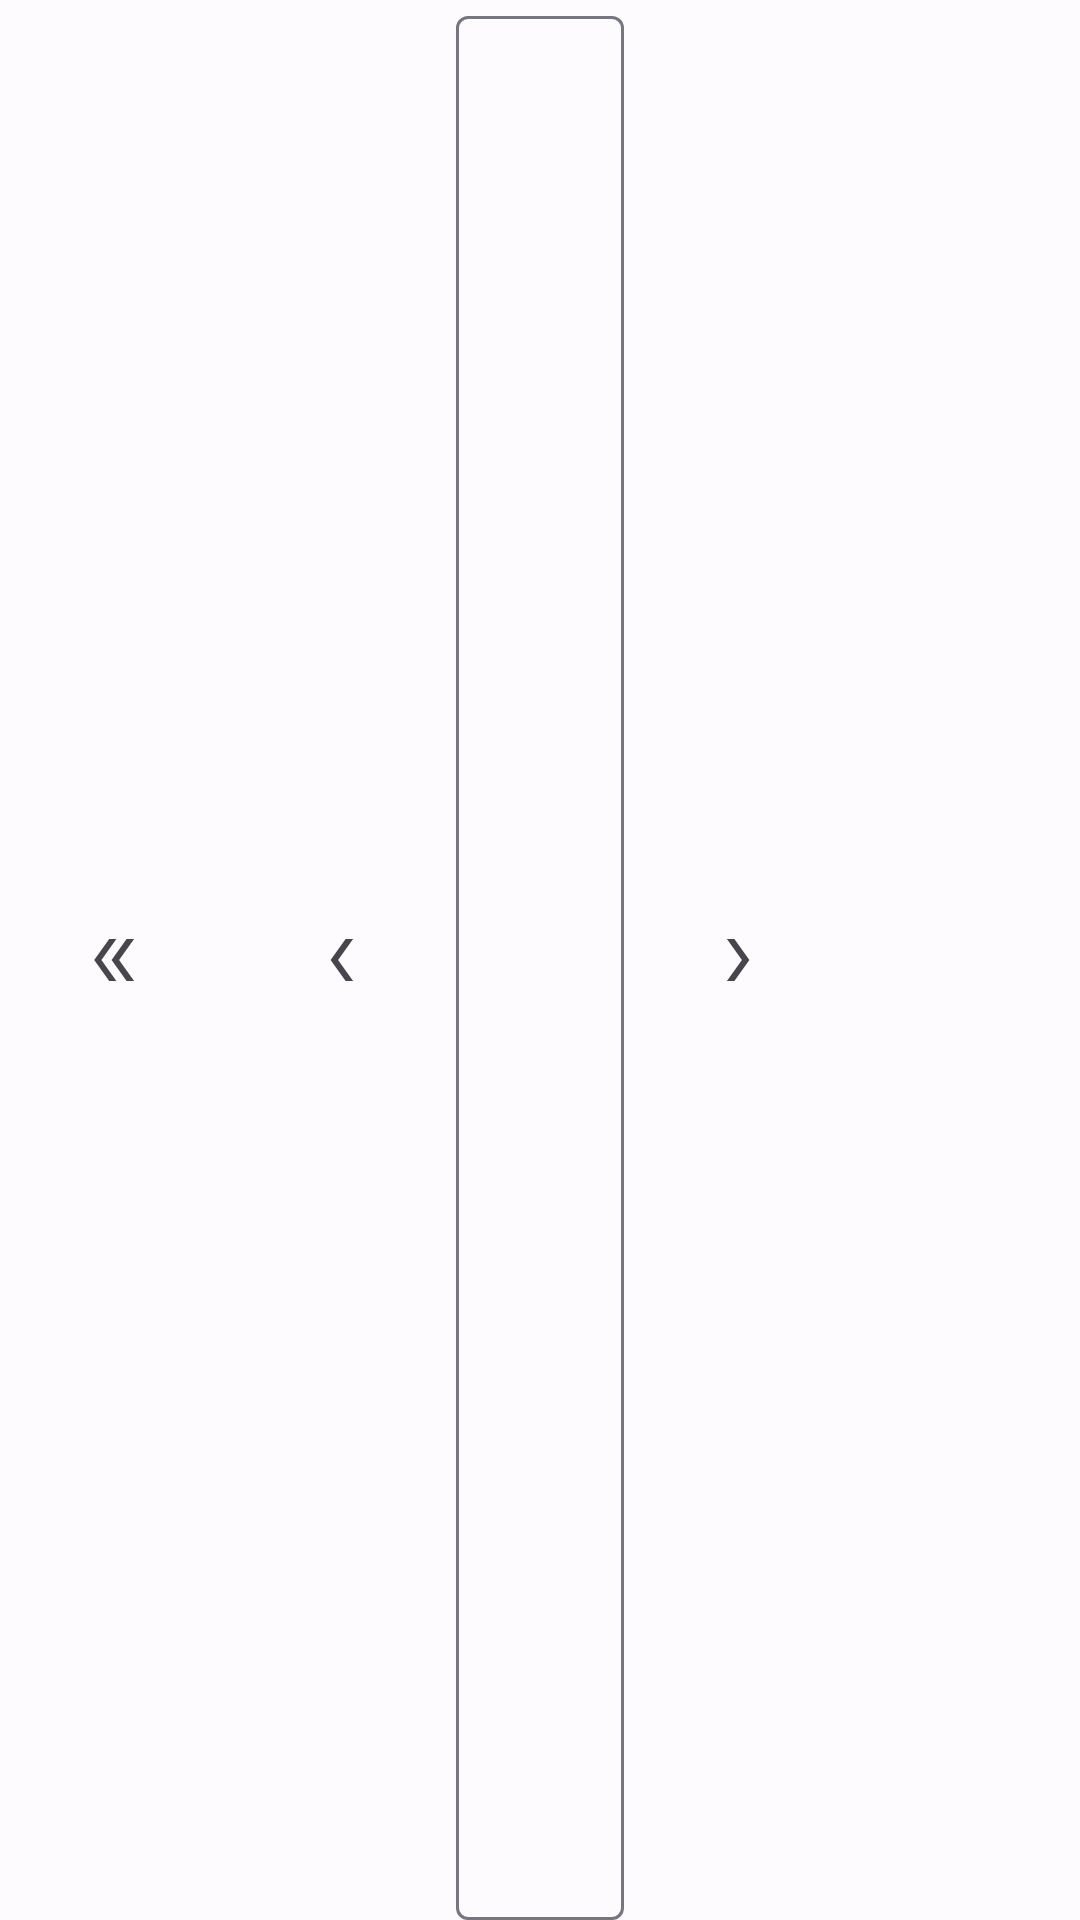

Named icons in this screenshot (1080*1920) and their bounding boxes, (x1, y1, x2, y2):
arrow left: (331, 939, 353, 981)
arrow right: (727, 939, 749, 981)
double arrow left: (94, 939, 134, 981)
